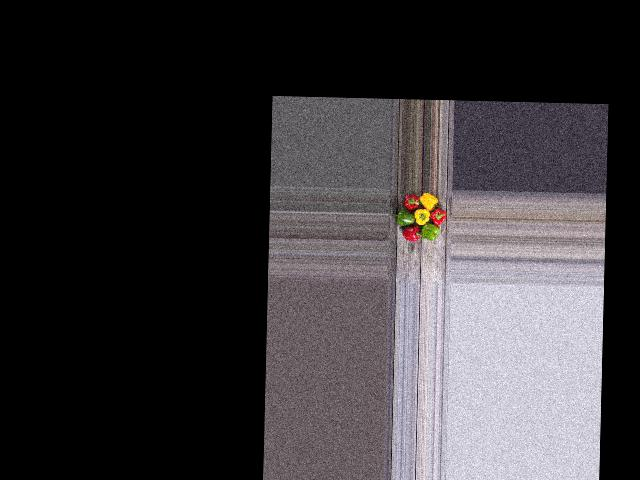bell_pepper: (403, 190, 422, 210)
